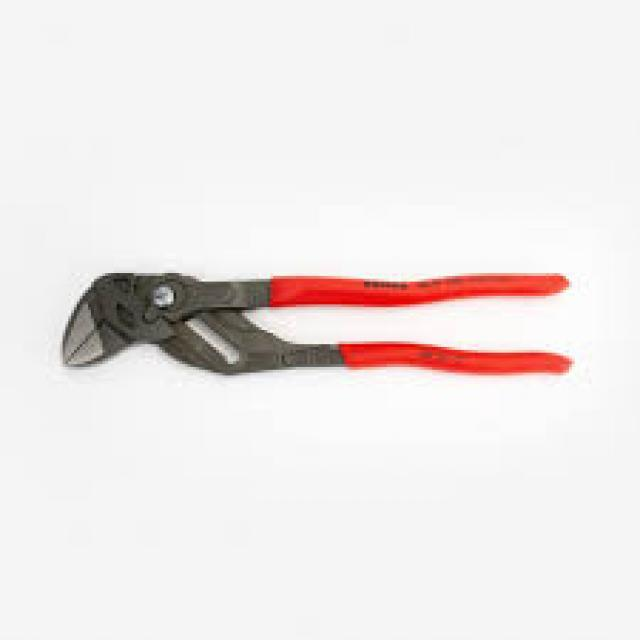pliers: (49, 258, 589, 400)
